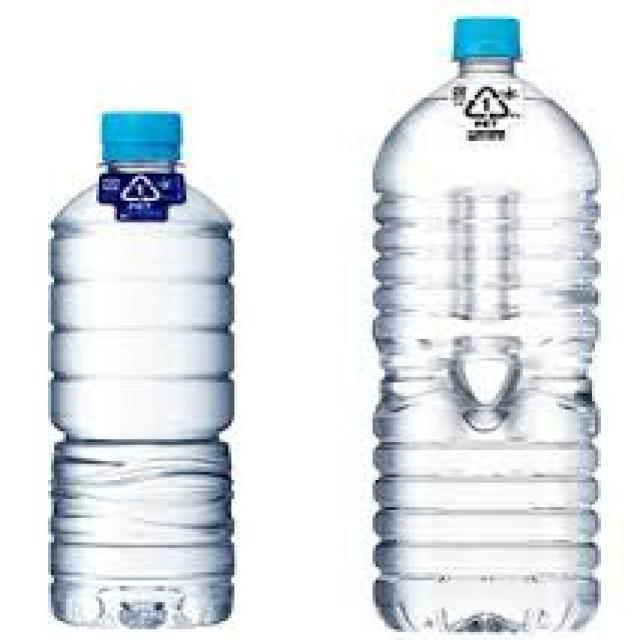Plastic: (368, 13, 598, 636), (50, 108, 238, 632)
